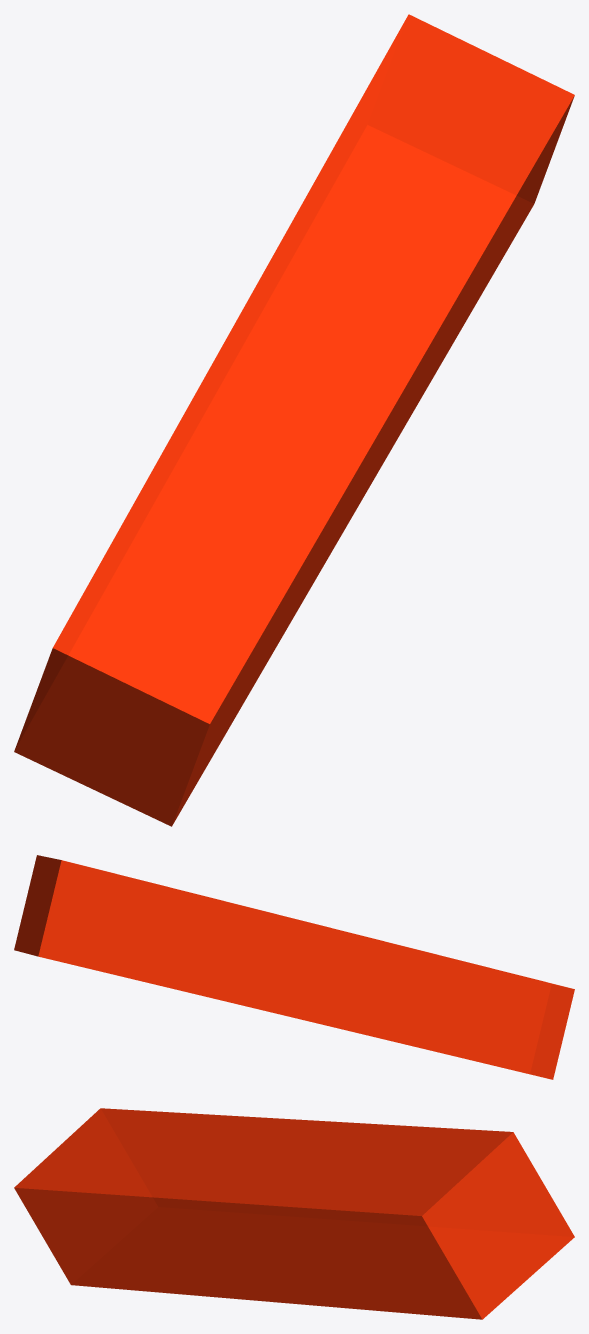
The model's file is Event_420107950_EBrechit_15.fbx.
The picture shows the model from 3 angles, top to bottom: view 1: azimuth 30°, elevation 25°; view 2: azimuth 150°, elevation 25°; view 3: azimuth 270°, elevation 25°; orthographic projection. The views are drawn at different scales.
Parts seen in each view (by area): view 1: Model; view 2: Model; view 3: Model.
Boxes of the visible parts, box(x1,y1,x2,y2) form: Model: box(14, 14, 574, 826); Model: box(14, 855, 574, 1079); Model: box(14, 1108, 574, 1319).
Bounding box in the file's own units: 0.2892 × 0.1744 × 0.2553.
